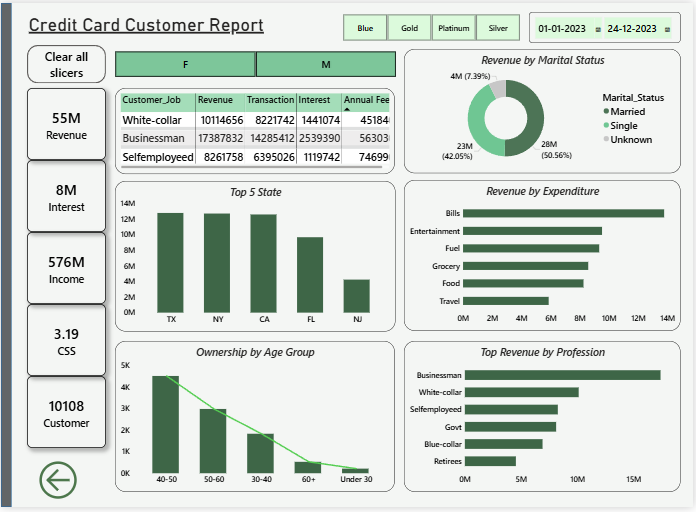

This screenshot's page, from the dashboard's own definition file:
{"tool":"powerbi","page":{"name":" Credit Card Customer Report","canvas":[1920,1400],"ordinal":1},"visuals":[{"type":"textbox","box":[71,25.8,693.5,103.2],"z":0},{"type":"shape","box":[0,0,29,1400],"z":1000},{"type":"clusteredBarChart","title":"Revenue by Expenditure","fields":{"Category":["credit_card.Exp_Type"],"Y":["Sum(credit_card.Revenue)"]},"box":[1119.4,490.3,767.7,419.4],"z":2000},{"type":"barChart","title":"Top Revenue by Profession","fields":{"Category":["customer.Customer_Job"],"Y":["Sum(credit_card.Revenue)"]},"box":[1119.4,938.7,767.7,419.4],"z":3000},{"type":"cardVisual","fields":{"Data":["Sum(credit_card.Revenue)"]},"box":[71,235.5,219.4,200],"z":4000},{"type":"cardVisual","fields":{"Data":["Sum(credit_card.Interest_Earned)"]},"box":[71,435.5,219.4,200],"z":5000},{"type":"cardVisual","fields":{"Data":["Sum(customer.Income)"]},"box":[71,635.5,219.4,200],"z":6000},{"type":"cardVisual","fields":{"Data":["Avg(customer.Cust_Satisfaction_Score)"]},"box":[71,835.5,219.4,200],"z":7000},{"type":"cardVisual","fields":{"Data":["Count(customer.Client_Num)"]},"box":[71,1035.5,219.4,200],"z":8000},{"type":"lineStackedColumnComboChart","title":"Ownership by Age Group","fields":{"Category":["customer.Age_Group"],"Y":["CountNonNull(customer.Car_Owner)"],"Y2":["CountNonNull(customer.House_Owner)"]},"box":[316.1,938.7,777.4,419.4],"z":9000},{"type":"clusteredColumnChart","title":"Top 5 State","fields":{"Category":["customer.state_cd"],"Y":["Sum(credit_card.Revenue)"]},"box":[317.6,494.1,779.4,417.6],"z":10000},{"type":"donutChart","title":"Revenue by Marital Status","fields":{"Category":["customer.Marital_Status"],"Y":["Sum(credit_card.Revenue)"]},"box":[1119,128.6,769,345.2],"z":11000},{"type":"tableEx","fields":{"Values":["customer.Customer_Job","Sum(credit_card.Revenue)","Sum(credit_card.Total_Trans_Amt)","Sum(credit_card.Interest_Earned)","Sum(credit_card.Annual_Fees)"]},"box":[316.1,235.5,777.4,238.7],"z":12000},{"type":"slicer","fields":{"Values":["customer.Gender"]},"box":[290.3,129,829,83.9],"z":13000},{"type":"actionButton","box":[96.8,1264.5,219.4,122.6],"z":14000},{"type":"actionButton","box":[71,116.1,219.4,106.5],"z":15000},{"type":"slicer","fields":{"Values":["credit_card.Week_Start_Date"]},"box":[1466.7,26.2,421.4,85.7],"z":15001},{"type":"slicer","fields":{"Values":["credit_card.Card_Category"]},"box":[926.2,26.2,540.5,85.7],"z":15002}]}

Visuals, with their boxes in screenshot pixels (x1, y1, x2, y2), scaled from the page's 1920x1400 canvas onto the 696x512 screenshot:
textbox: {"x1": 26, "y1": 9, "x2": 277, "y2": 47}
shape: {"x1": 0, "y1": 0, "x2": 11, "y2": 511}
"Revenue by Expenditure" clusteredBarChart: {"x1": 406, "y1": 179, "x2": 684, "y2": 333}
"Top Revenue by Profession" barChart: {"x1": 406, "y1": 343, "x2": 684, "y2": 497}
cardVisual - Sum(credit_card.Revenue): {"x1": 26, "y1": 86, "x2": 105, "y2": 159}
cardVisual - Sum(credit_card.Interest_Earned): {"x1": 26, "y1": 159, "x2": 105, "y2": 232}
cardVisual - Sum(customer.Income): {"x1": 26, "y1": 232, "x2": 105, "y2": 306}
cardVisual - Avg(customer.Cust_Satisfaction_Score): {"x1": 26, "y1": 306, "x2": 105, "y2": 379}
cardVisual - Count(customer.Client_Num): {"x1": 26, "y1": 379, "x2": 105, "y2": 452}
"Ownership by Age Group" lineStackedColumnComboChart: {"x1": 115, "y1": 343, "x2": 396, "y2": 497}
"Top 5 State" clusteredColumnChart: {"x1": 115, "y1": 181, "x2": 398, "y2": 333}
"Revenue by Marital Status" donutChart: {"x1": 406, "y1": 47, "x2": 684, "y2": 173}
tableEx - customer.Customer_Job x Sum(credit_card.Revenue): {"x1": 115, "y1": 86, "x2": 396, "y2": 173}
slicer - customer.Gender: {"x1": 105, "y1": 47, "x2": 406, "y2": 78}
actionButton: {"x1": 35, "y1": 462, "x2": 115, "y2": 507}
actionButton: {"x1": 26, "y1": 42, "x2": 105, "y2": 81}
slicer - credit_card.Week_Start_Date: {"x1": 532, "y1": 10, "x2": 684, "y2": 41}
slicer - credit_card.Card_Category: {"x1": 336, "y1": 10, "x2": 532, "y2": 41}
